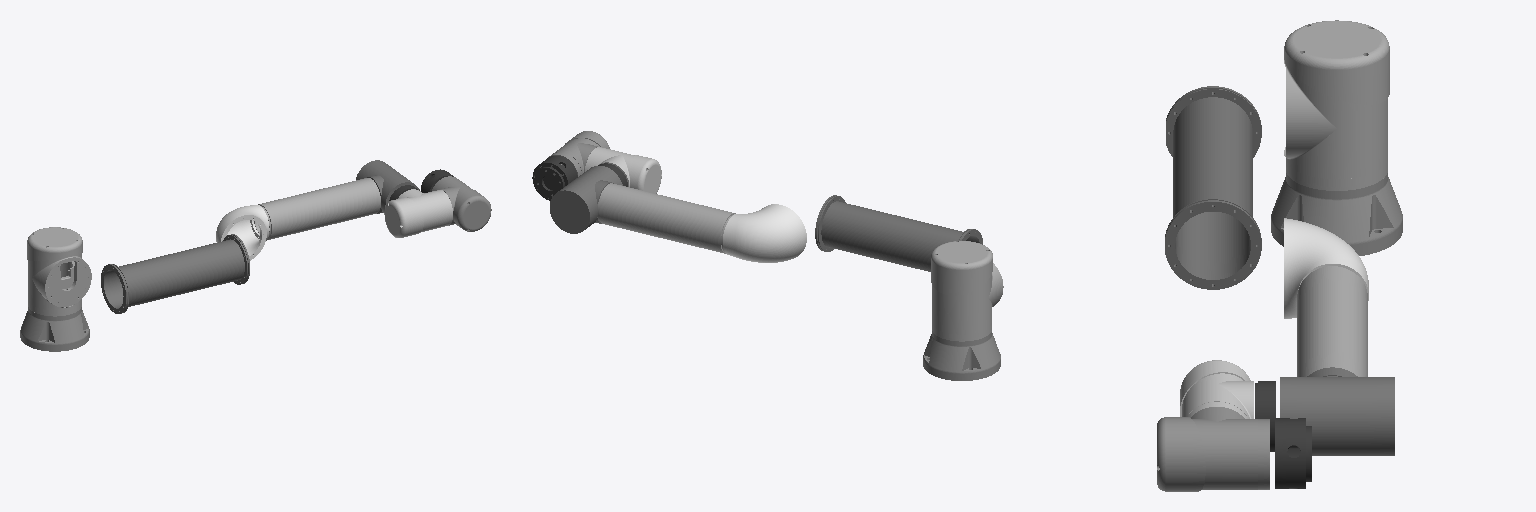
robot.urdf — testbot:
<?xml version="1.0" ?>

<robot name="testbot">
    <link name="base">
        <visual>
            <geometry>
                <mesh filename="package://testbot_description/meshes/visual/link0.stl" />
            </geometry>
            <material name="gray">
                <color rgba="0.6 0.6 0.6 1"/>
            </material>
        </visual>
        <collision>
            <geometry>
                <mesh filename="package://testbot_description/meshes/collision/link0.stl" />
            </geometry>
        </collision>
    </link>
    <link name="link1">
        <visual>
            <geometry>
                <mesh filename="package://testbot_description/meshes/visual/link1.stl" />
            </geometry>
            <material name="gray">
                <color rgba="0.7 0.7 0.7 1"/>
            </material>
        </visual>
        <collision>
            <geometry>
                <mesh filename="package://testbot_description/meshes/collision/link1.stl" />
            </geometry>
        </collision>
    </link>
    <joint name="joint1" type="revolute">
        <origin rpy="1.57079632679 0 0" xyz="0 0 0.075" />
        <parent link="base" />
        <child link="link1" />
        <axis xyz="0 1 0" />
        <limit effort="87" lower="-2.9671" upper="2.9671" velocity="2.3925" />
    </joint>
    <link name="link2">
        <visual>
            <geometry>
                <mesh filename="package://testbot_description/meshes/visual/link2.stl" />
            </geometry>
            <material name="gray">
                <color rgba="0.8 0.8 0.8 1"/>
            </material>
        </visual>
        <collision>
            <geometry>
                <mesh filename="package://testbot_description/meshes/collision/link2.stl" />
            </geometry>
        </collision>
    </link>
    <joint name="joint2" type="revolute">
        <origin rpy="1.57079632679 0 1.57079632679" xyz="0 0.08 0.06" />
        <parent link="link1" />
        <child link="link2" />
        <axis xyz="0 1 0" />
        <limit effort="87" lower="0" upper="2.9671" velocity="2.3925" />
    </joint>
    <link name="link3">
        <visual>
            <geometry>
                <mesh filename="package://testbot_description/meshes/visual/link3.stl" />
            </geometry>
            <material name="gray">
                <color rgba="0.5 0.5 0.5 1"/>
            </material>
        </visual>
        <collision>
            <geometry>
                <mesh filename="package://testbot_description/meshes/collision/link3.stl" />
            </geometry>
        </collision>
    </link>
    <joint name="fixed1" type="fixed">
        <origin rpy="1.57079632679 0 0" xyz="0 0.08 0.065" />
        <parent link="link2" />
        <child link="link3" />
    </joint>
    <link name="link4">
        <visual>
            <geometry>
                <mesh filename="package://testbot_description/meshes/visual/link4.stl" />
            </geometry>
            <material name="gray">
                <color rgba="0.4 0.4 0.4 1"/>
            </material>
        </visual>
        <collision>
            <geometry>
                <mesh filename="package://testbot_description/meshes/collision/link4.stl" />
            </geometry>
        </collision>
    </link>
    <joint name="fixed2" type="fixed">
        <origin rpy="-1.57079632679 0 3.14159265359" xyz="0 0.37 0.08" />
        <parent link="link3" />
        <child link="link4" />
    </joint>
    <link name="link5">
        <visual>
            <geometry>
                <mesh filename="package://testbot_description/meshes/visual/link5.stl" />
            </geometry>
            <material name="gray">
                <color rgba="0.9 0.9 0.9 1"/>
            </material>
        </visual>
        <collision>
            <geometry>
                <mesh filename="package://testbot_description/meshes/collision/link5.stl" />
            </geometry>
        </collision>
    </link>
    <joint name="joint3" type="revolute">
        <origin rpy="3.14159265359 0 0" xyz="0 0 0" />
        <parent link="link4" />
        <child link="link5" />
        <axis xyz="0 1 0" />
        <limit effort="87" lower="-1.8326" upper="1.8326" velocity="2.3925" />
    </joint>
    <link name="link6">
        <visual>
            <geometry>
                <mesh filename="package://testbot_description/meshes/visual/link6.stl" />
            </geometry>
            <material name="gray">
                <color rgba="0.7 0.7 0.7 1"/>
            </material>
        </visual>
        <collision>
            <geometry>
                <mesh filename="package://testbot_description/meshes/collision/link6.stl" />
            </geometry>
        </collision>
    </link>
    <joint name="fixed3" type="fixed">
        <origin rpy="1.57079632679 0 0" xyz="0 0.055 0.075" />
        <parent link="link5" />
        <child link="link6" />
    </joint>
    <link name="link7">
        <visual>
            <geometry>
                <mesh filename="package://testbot_description/meshes/visual/link7.stl" />
            </geometry>
            <material name="gray">
                <color rgba="0.5 0.5 0.5 1"/>
            </material>
        </visual>
        <collision>
            <geometry>
                <mesh filename="package://testbot_description/meshes/collision/link7.stl" />
            </geometry>
        </collision>
    </link>
    <joint name="fixed4" type="fixed">
        <origin rpy="-1.57079632679 0 3.14159265359" xyz="0 0.32 0.06" />
        <parent link="link6" />
        <child link="link7" />
    </joint>
    <link name="link8">
        <visual>
            <geometry>
                <mesh filename="package://testbot_description/meshes/visual/link8.stl" />
            </geometry>
            <material name="gray">
                <color rgba="0.3 0.3 0.3 1"/>
            </material>
        </visual>
        <collision>
            <geometry>
                <mesh filename="package://testbot_description/meshes/collision/link8.stl" />
            </geometry>
        </collision>
    </link>
    <joint name="joint4" type="revolute">
        <origin rpy="0 0 0" xyz="0 -0.028 0" />
        <parent link="link7" />
        <child link="link8" />
        <axis xyz="0 1 0" />
        <limit effort="12" lower="-1.8326" upper="1.8326" velocity="2.3925" />
    </joint>
    <link name="link9">
        <visual>
            <geometry>
                <mesh filename="package://testbot_description/meshes/visual/link9.stl" />
            </geometry>
            <material name="gray">
                <color rgba="0.8 0.8 0.8 1"/>
            </material>
        </visual>
        <collision>
            <geometry>
                <mesh filename="package://testbot_description/meshes/collision/link9.stl" />
            </geometry>
        </collision>
    </link>
    <joint name="fixed5" type="fixed">
        <origin rpy="1.57079632679 0 3.14159265359" xyz="0 -0.0425 -0.06" />
        <parent link="link8" />
        <child link="link9" />
    </joint>
    <link name="link10">
        <visual>
            <geometry>
                <mesh filename="package://testbot_description/meshes/visual/link10.stl" />
            </geometry>
            <material name="gray">
                <color rgba="0.6 0.6 0.6 1"/>
            </material>
        </visual>
        <collision>
            <geometry>
                <mesh filename="package://testbot_description/meshes/collision/link10.stl" />
            </geometry>
        </collision>
    </link>
    <joint name="joint5" type="revolute">
        <origin rpy="3.14159265359 0 0" xyz="0 0 0" />
        <parent link="link9" />
        <child link="link10" />
        <axis xyz="0 1 0" />
        <limit effort="12" lower="-1.8326" upper="1.8326" velocity="2.3925" />
    </joint>
    <link name="link11">
        <visual>
            <geometry>
                <mesh filename="package://testbot_description/meshes/visual/link11.stl" />
            </geometry>
            <material name="gray">
                <color rgba="0.3 0.3 0.3 1"/>
            </material>
        </visual>
        <collision>
            <geometry>
                <mesh filename="package://testbot_description/meshes/collision/link11.stl" />
            </geometry>
        </collision>
    </link>
    <joint name="joint6" type="revolute">
        <origin rpy="-1.57079632679 0 0" xyz="0 0.04 -0.065" />
        <parent link="link10" />
        <child link="link11" />
        <axis xyz="0 1 0" />
        <limit effort="12" lower="-1.8326" upper="1.8326" velocity="2.3925" />
    </joint>
</robot>

--- What the picture shows (computed from the rendered views, not written in the file) ---
3 views of the same robot in one strip: view 1: azimuth 30°, elevation 25°; view 2: azimuth 150°, elevation 25°; view 3: azimuth 270°, elevation 25° (orthographic).
Model testbot with 12 links and 11 joints (6 revolute, 5 fixed), rooted at base, posed all joints at 0.
Links seen in each view (by area): view 1: link3, link1, link6, link9, base, link10, link5, link7; view 2: link3, link1, link6, link5, base, link7, link9, link11, link10; view 3: link3, link1, link10, link7, link6, base, link5, link9, link11, link8.
Link boxes in pixels (x1,y1,x2,y2): link3: (101,234,249,313); link1: (27,227,91,316); link6: (254,178,380,240); link9: (384,189,452,237); base: (20,307,89,351); link10: (432,176,491,231); link5: (216,205,269,260); link7: (356,160,419,213); link3: (815,195,982,271); link1: (931,241,1003,341); link6: (598,183,735,253); link5: (723,204,806,262); base: (923,331,1000,380); link7: (550,166,622,233); link9: (585,147,661,193); link11: (532,156,577,200); link10: (548,131,609,176); link3: (1165,86,1261,289); link1: (1284,20,1389,190); link10: (1157,407,1269,491); link7: (1280,367,1394,455); link6: (1297,266,1367,376); base: (1271,173,1402,255); link5: (1284,218,1368,318); link9: (1180,360,1253,418); link11: (1275,418,1311,488); link8: (1255,381,1275,451).
Size in the robot's own frame: 1.05 by 0.2779 by 0.2375 metres.
Meshes: 12 distinct files referenced, 10 mesh visuals loaded (10 binary STL); not drawn: 2 (reference not matched to a file when rendering).